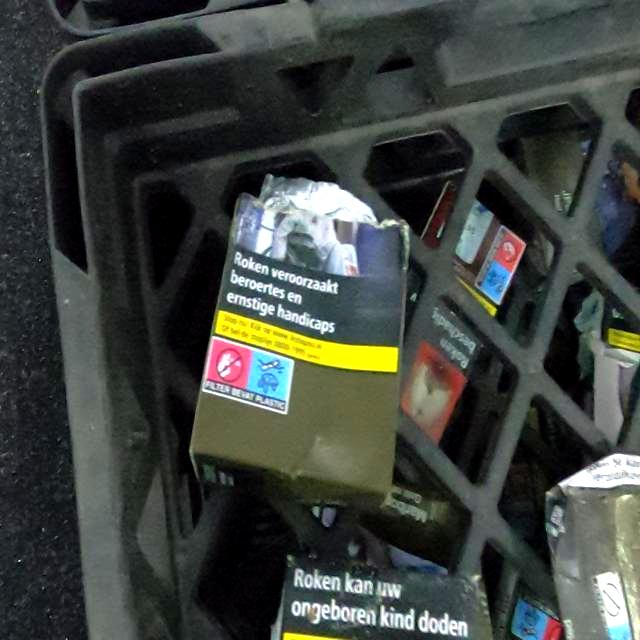Paper: (193, 176, 399, 502), (400, 172, 528, 448), (269, 546, 493, 640), (542, 448, 640, 638)
